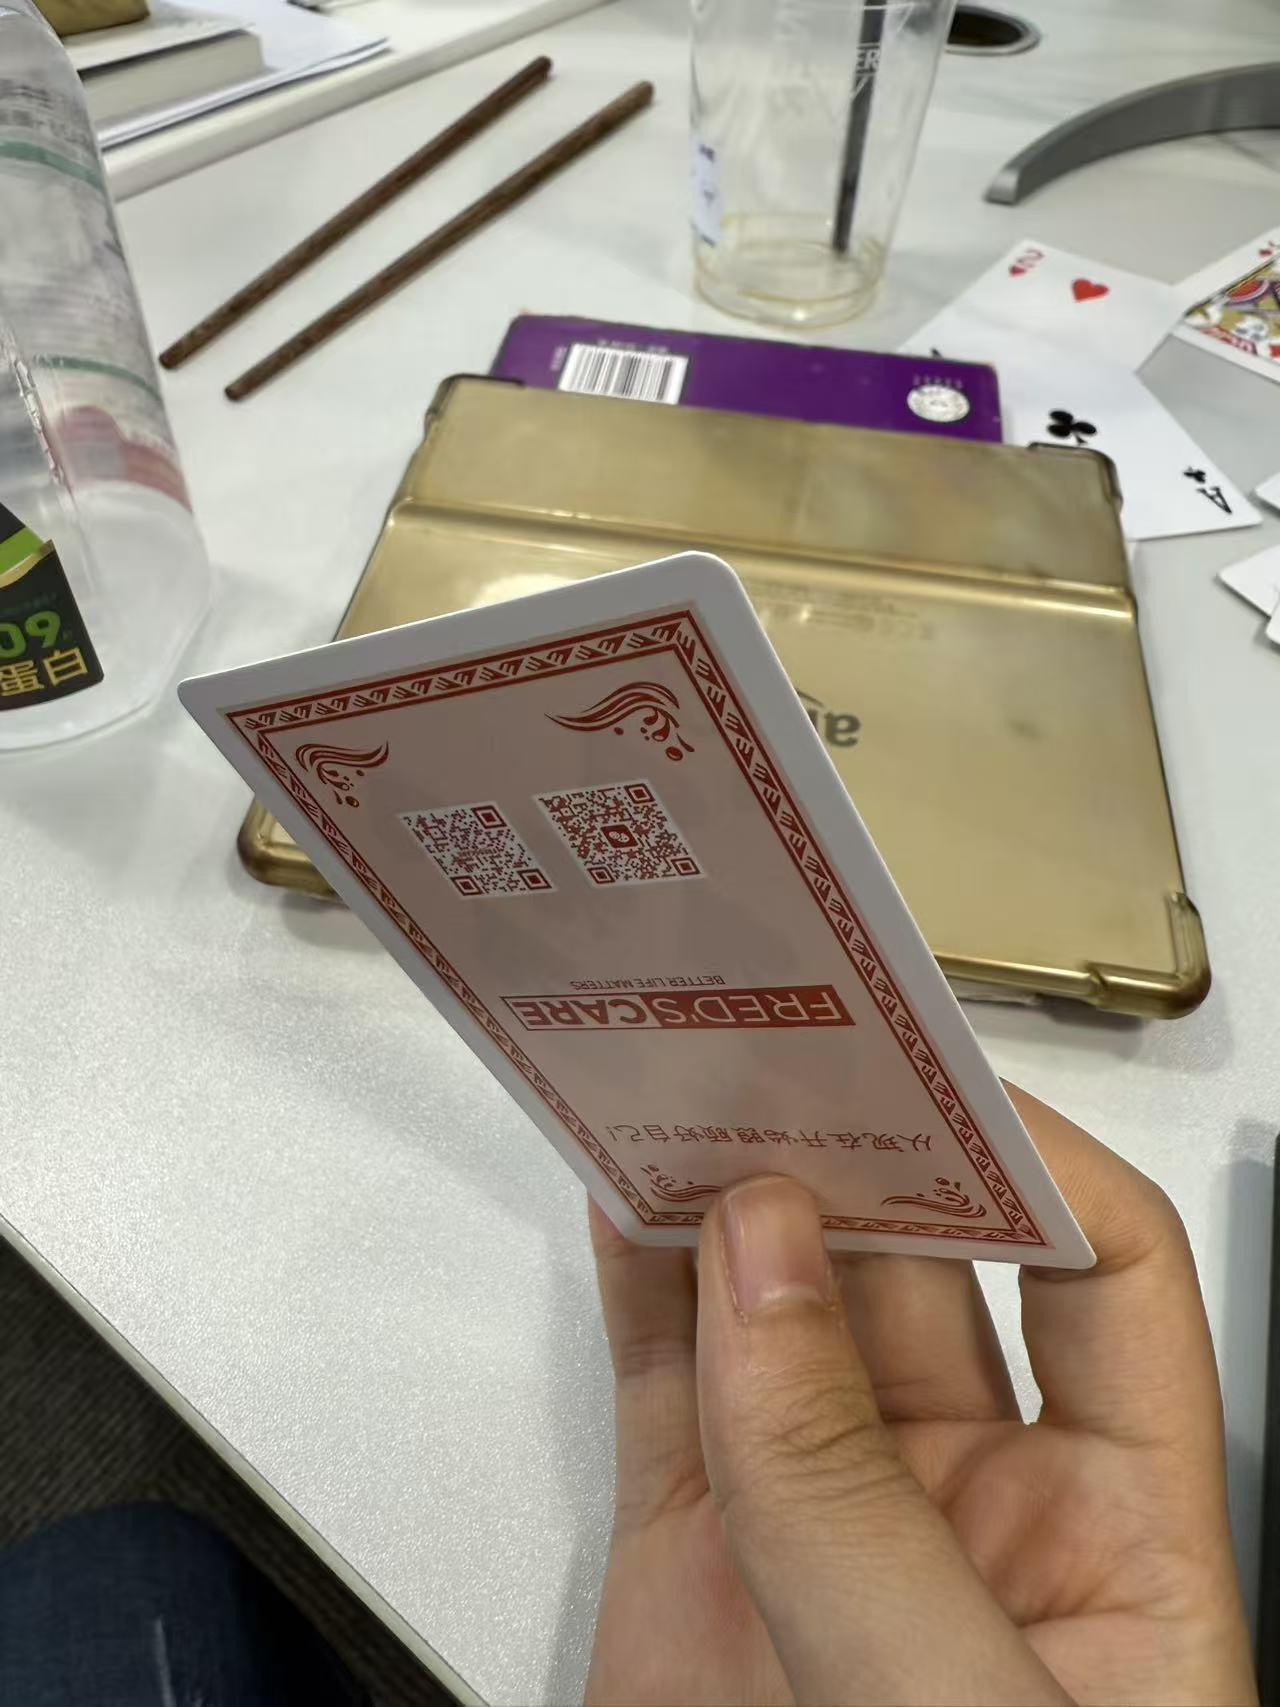poker: (173, 544, 1104, 1276), (906, 331, 1267, 556), (877, 228, 1210, 452), (1142, 206, 1280, 388)
